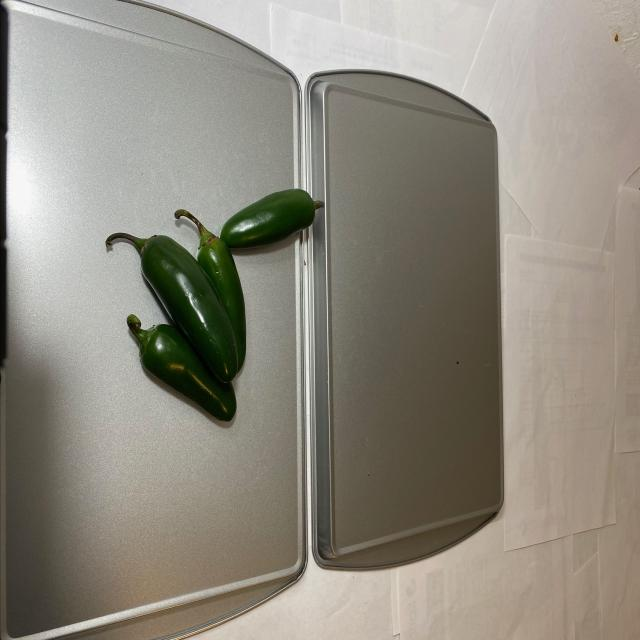chilli: (107, 185, 326, 426)
